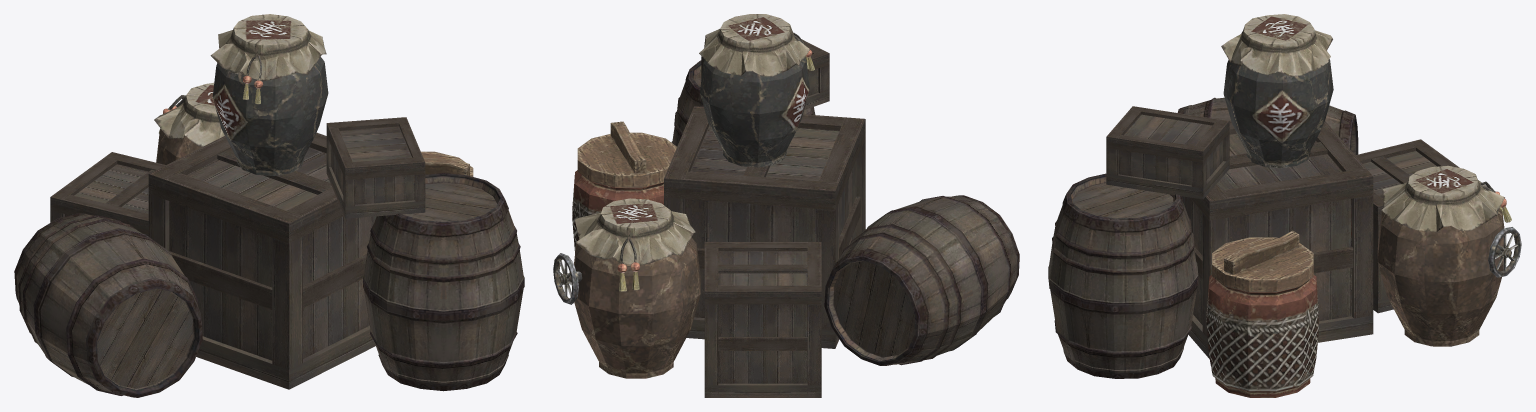
The model's file is bg_anh_etc_vp07_03_sm_old.FBX.
3 views of the same model, side by side, from view 1: azimuth 30°, elevation 25°; view 2: azimuth 150°, elevation 25°; view 3: azimuth 270°, elevation 25° (orthographic). The views are drawn at different scales.
Parts seen in each view (by area): view 1: bg_anh_etc_vp07_03_sm_old; view 2: bg_anh_etc_vp07_03_sm_old; view 3: bg_anh_etc_vp07_03_sm_old.
Part boxes in pixels (<box>): bg_anh_etc_vp07_03_sm_old: <box>14,14,524,397</box>; bg_anh_etc_vp07_03_sm_old: <box>553,14,1019,397</box>; bg_anh_etc_vp07_03_sm_old: <box>1048,14,1521,397</box>.
Size of the model in its own units: 180 by 121 by 181.
